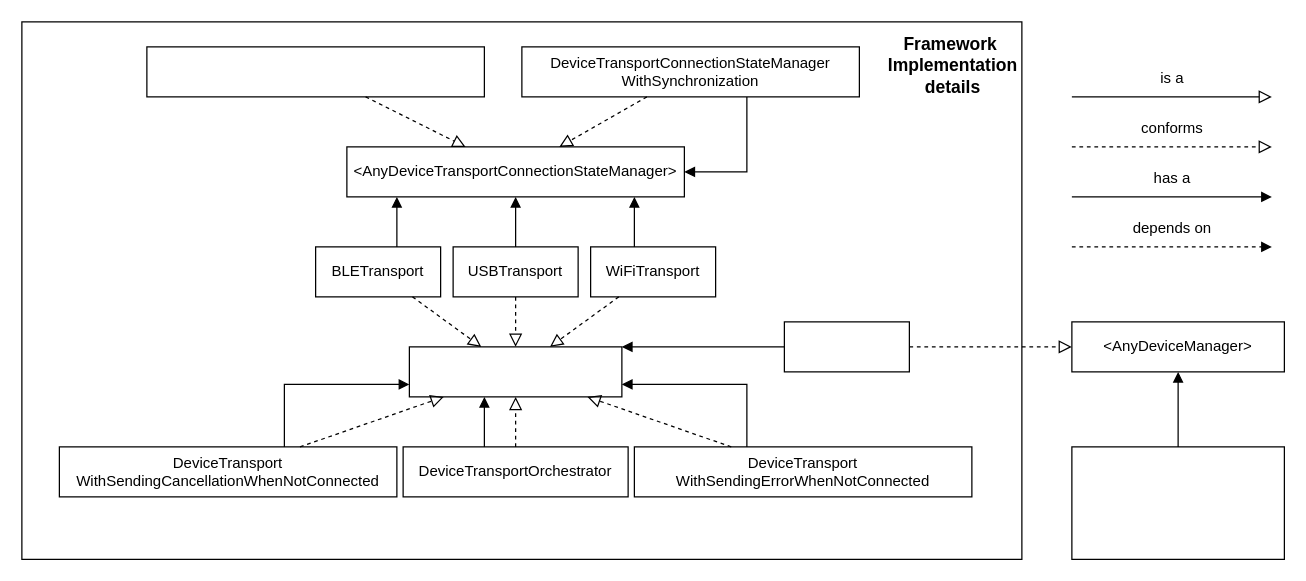
Image size: 1306x581. Some labels were removed from this diagram. The shapes that lost their labels are listed below. From the top down, each one's centre as x and y in pixels, then its label:
pixel 315 71: DeviceTransportConnectionStateManager
pixel 846 346: DeviceManager
pixel 515 371: <AnyDeviceTransport >
pixel 1177 502: App
